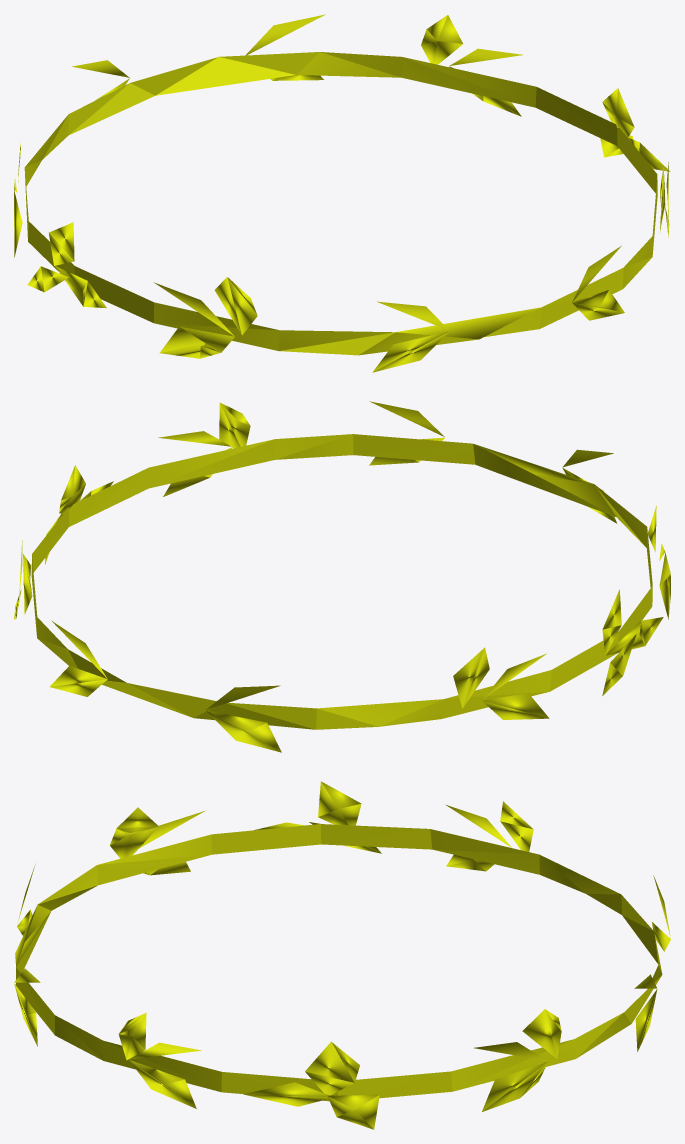
File: head-healer.glb
3 views of the same model, one above another, from view 1: azimuth 30°, elevation 25°; view 2: azimuth 150°, elevation 25°; view 3: azimuth 270°, elevation 25° (orthographic). The views are drawn at different scales.
Parts seen in each view (by area): view 1: head-healer; view 2: head-healer; view 3: head-healer.
Part boxes in pixels (x1,y1,x2,y2): head-healer: [14, 14, 670, 372]; head-healer: [14, 401, 670, 752]; head-healer: [14, 781, 670, 1129].
Bounding box in the file's own units: 0.2581 × 0.0397 × 0.2633.
Materials: 1 (1 with a texture image).
